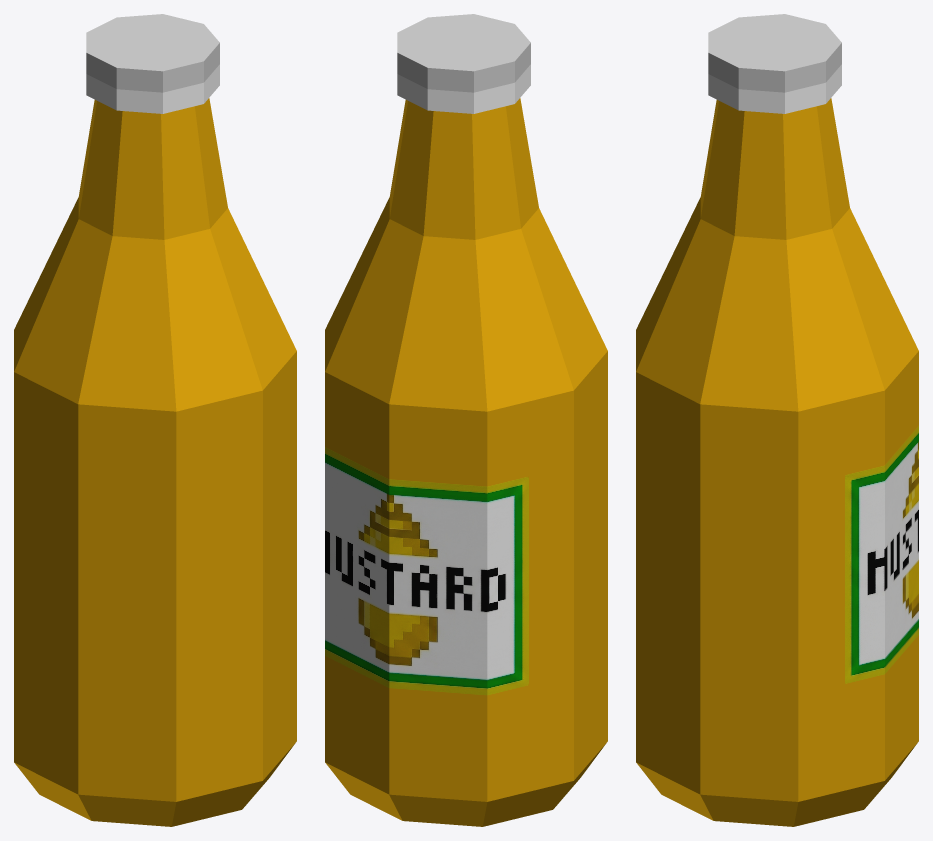
The model's file is mustard.glb.
The picture shows the model from 3 angles, left to right: view 1: azimuth 30°, elevation 25°; view 2: azimuth 150°, elevation 25°; view 3: azimuth 270°, elevation 25°; orthographic projection.
Parts seen in each view (by area): view 1: Ketchup; view 2: Ketchup; view 3: Ketchup.
Boxes of the visible parts, x1,y1,x2,y2 form: Ketchup: (14,14,296,826); Ketchup: (325,14,607,826); Ketchup: (636,14,918,826).
Size of the model in its own units: 1.97 by 5.56 by 1.94.
Materials: 1 (1 with a texture image).
